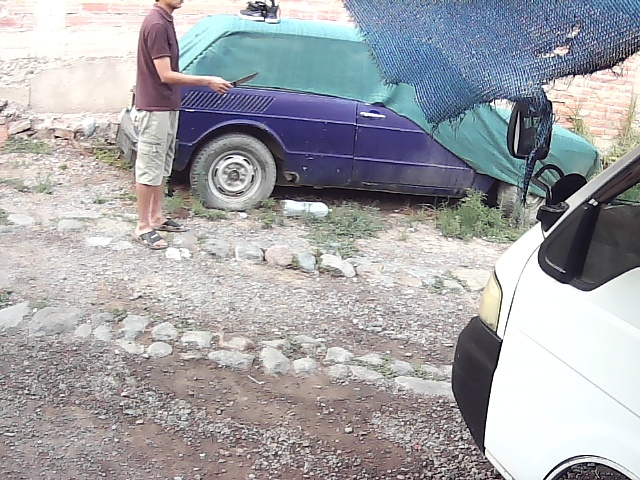cuchillo: (221, 66, 263, 91)
